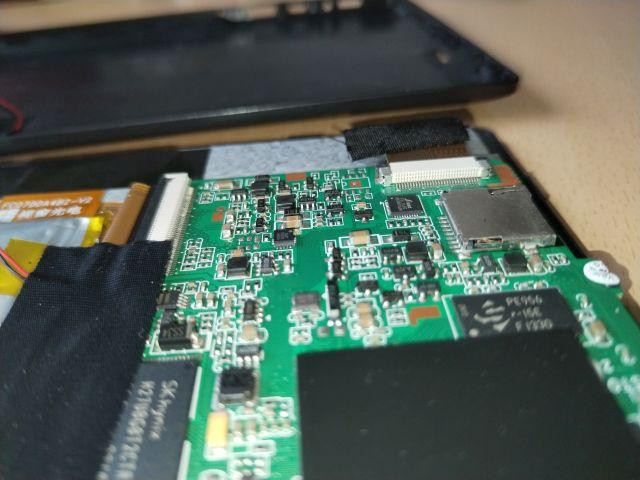capacitor: (269, 213, 320, 232), (337, 228, 382, 244), (208, 178, 243, 197)
resistor: (266, 226, 302, 248), (253, 216, 270, 234)
